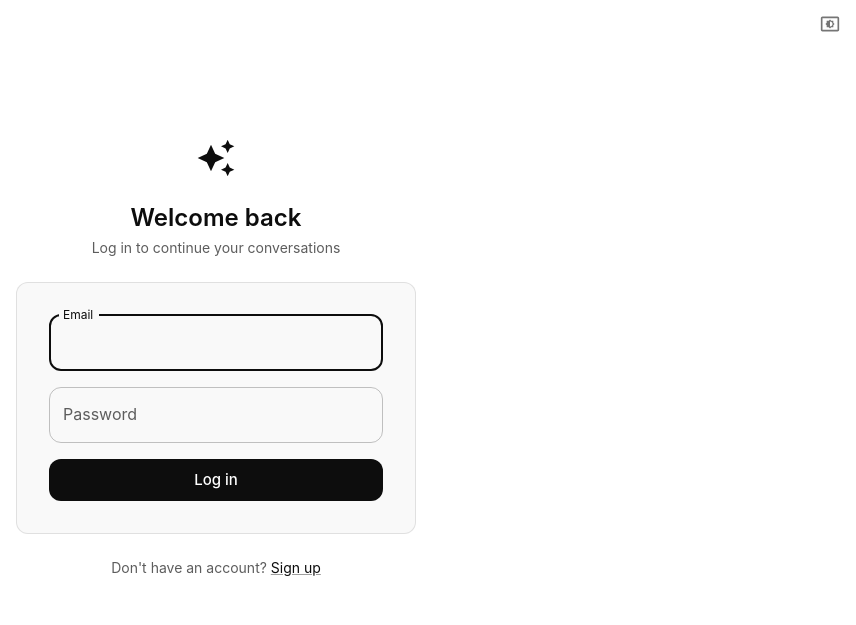
Test: auth flow › shows the server message when credentials are wrong
Type "alice@example.com" into the field labelled "Email" at {"x": 216, "y": 343}, box [49,315,383,371]
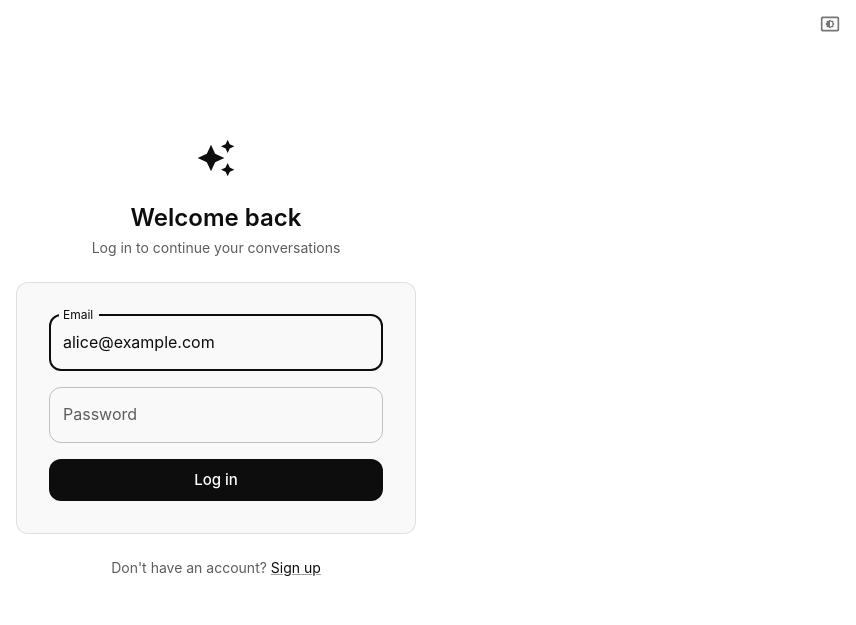
Type "wrong-password" into the password field labelled "Password" at {"x": 216, "y": 415}, box [49,387,383,443]
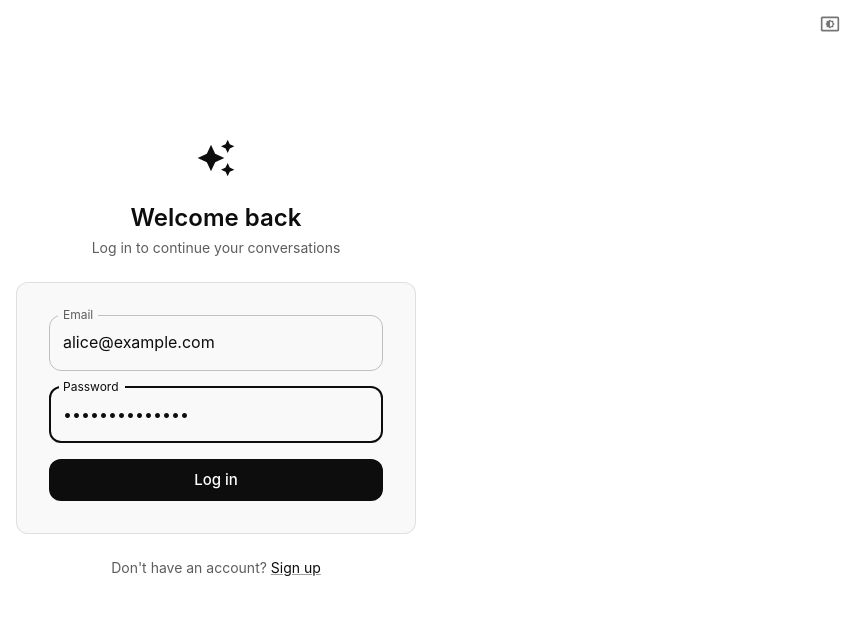
Click the button "Log in" at {"x": 216, "y": 480}, box [49,459,383,501]
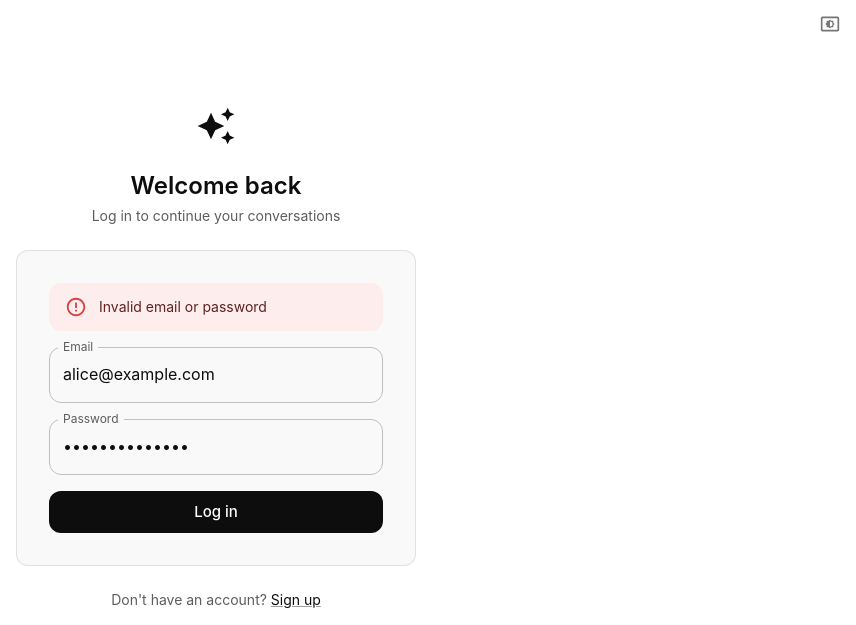
Check: the message reads "Invalid email or password", box [99,298,267,315]
